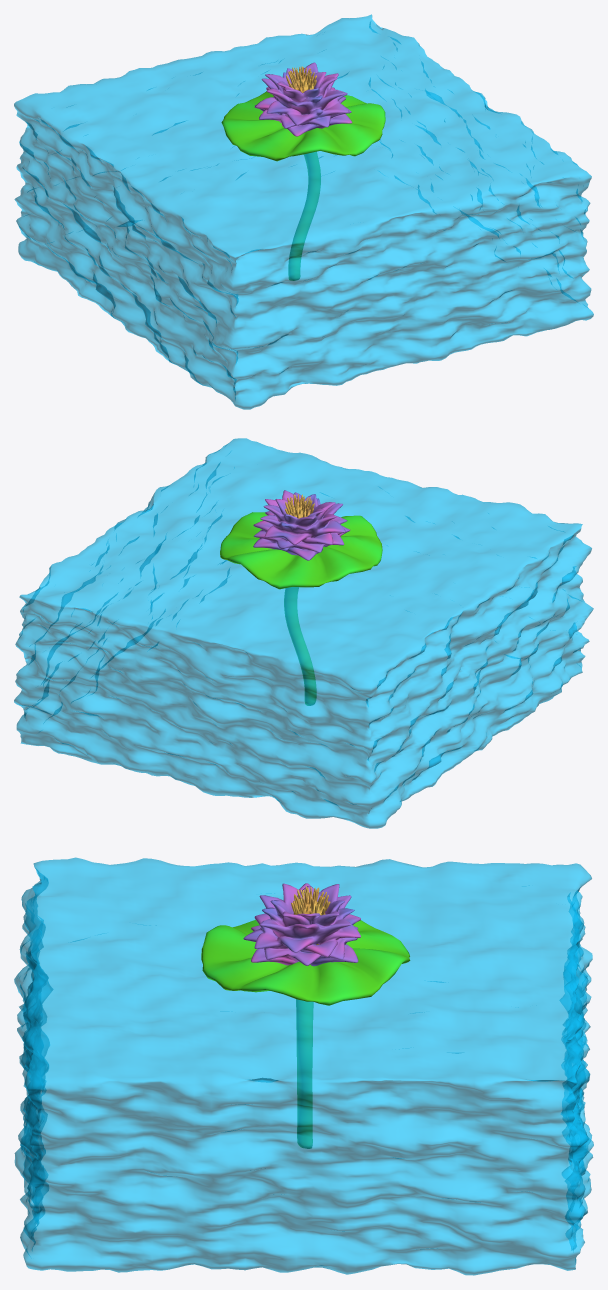
3 renders of one model, top to bottom at view 1: azimuth 30°, elevation 25°; view 2: azimuth 150°, elevation 25°; view 3: azimuth 270°, elevation 25°, orthographic. The views are drawn at different scales.
Parts seen in each view (by area): view 1: Cube_4, lily pad no flower low_2, flower low_3, flower mid part low.001_5; view 2: Cube_4, lily pad no flower low_2, flower low_3, flower mid part low.001_5; view 3: Cube_4, lily pad no flower low_2, flower low_3, flower mid part low.001_5.
Part boxes in pixels (bbox=[...]): Cube_4: bbox=[14, 14, 593, 409]; lily pad no flower low_2: bbox=[221, 91, 385, 280]; flower low_3: bbox=[254, 62, 352, 136]; flower mid part low.001_5: bbox=[286, 66, 316, 92]; Cube_4: bbox=[14, 438, 593, 828]; lily pad no flower low_2: bbox=[220, 512, 382, 705]; flower low_3: bbox=[253, 490, 350, 560]; flower mid part low.001_5: bbox=[285, 494, 314, 518]; Cube_4: bbox=[14, 857, 593, 1275]; lily pad no flower low_2: bbox=[201, 919, 410, 1148]; flower low_3: bbox=[243, 883, 360, 966]; flower mid part low.001_5: bbox=[291, 886, 330, 944].
Size of the model in its own units: 5.28 by 2.94 by 5.55.
Materials: 4 (3 with a texture image).
